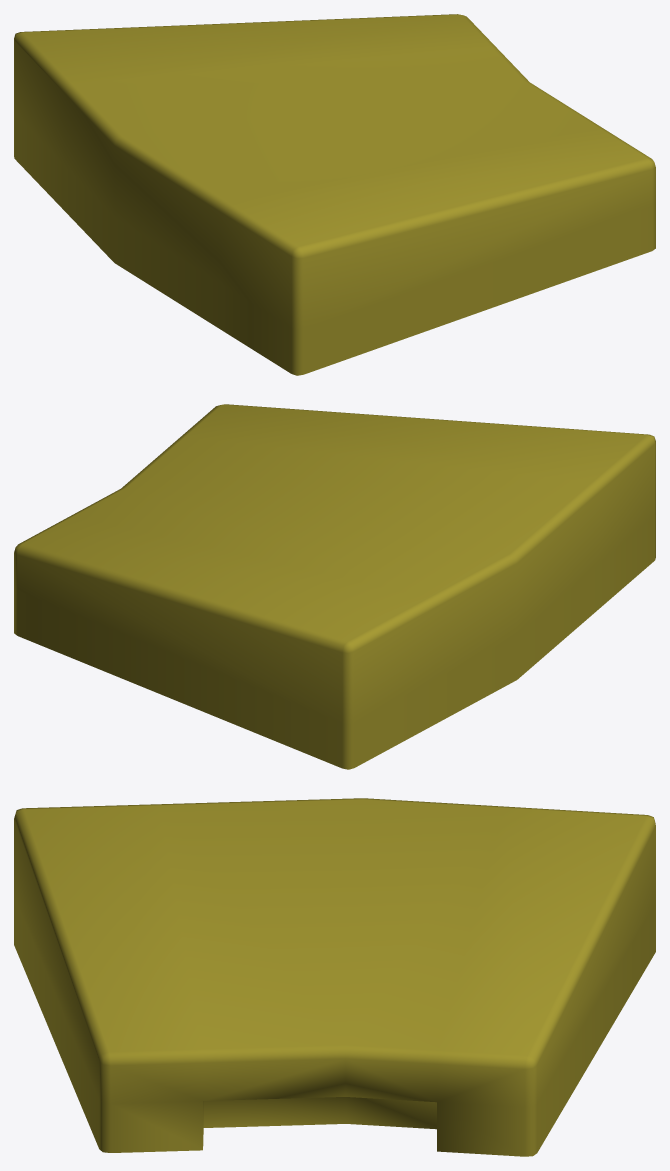
Rendered from MediumHouse_UV.fbx.
3 renders of one model, top to bottom at view 1: azimuth 30°, elevation 25°; view 2: azimuth 150°, elevation 25°; view 3: azimuth 270°, elevation 25°, orthographic. The views are drawn at different scales.
Visible parts, largest first — view 1: MediumHouseProp; view 2: MediumHouseProp; view 3: MediumHouseProp.
Part boxes in pixels (x1,y1,x2,y2): MediumHouseProp: (14, 14, 655, 375); MediumHouseProp: (14, 404, 655, 769); MediumHouseProp: (14, 798, 655, 1156).
Bounding box in the file's own units: 18.92 × 5.26 × 22.69.
